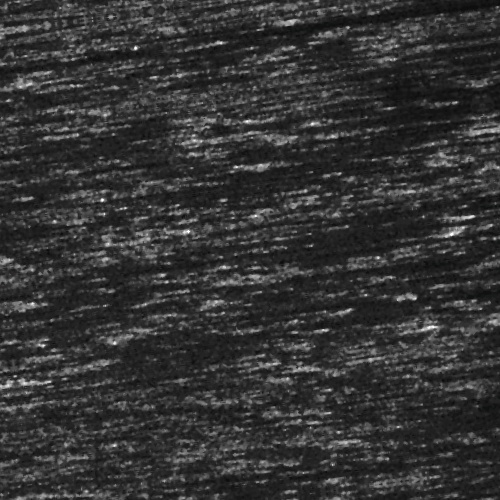object: (392, 250, 500, 261), (238, 357, 279, 368), (357, 311, 420, 318), (195, 34, 278, 39), (461, 155, 500, 164), (411, 239, 474, 244), (264, 22, 317, 25), (488, 438, 500, 451)
shadow: (309, 438, 500, 451), (313, 29, 500, 40), (421, 290, 500, 309), (386, 23, 500, 34), (438, 296, 500, 315), (180, 357, 258, 368), (391, 250, 464, 261), (85, 34, 236, 39), (431, 155, 500, 164), (312, 311, 389, 318), (369, 239, 443, 244), (216, 22, 290, 25)
